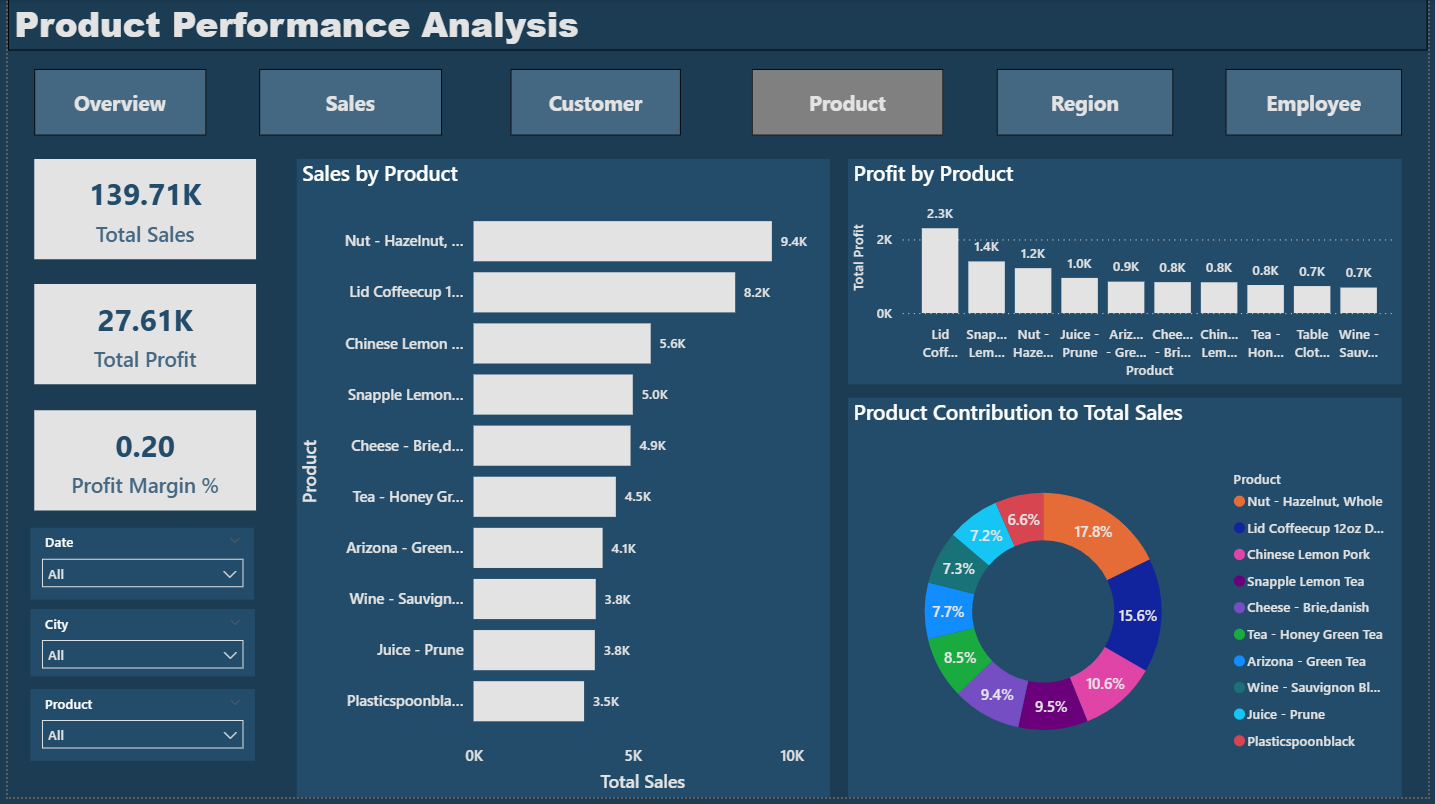

This screenshot's page, from the dashboard's own definition file:
{"tool":"powerbi","page":{"name":"Product Dashboard","canvas":[1280,720],"ordinal":4},"visuals":[{"type":"actionButton","box":[226.4,63.1,164.7,60.4],"z":0},{"type":"actionButton","box":[452.8,63.1,153.7,60.4],"z":1000},{"type":"actionButton","box":[671,63.1,172.9,60.4],"z":2000},{"type":"actionButton","box":[891.9,63.1,159.2,60.4],"z":3000},{"type":"textbox","title":"Product Performance Analysis","box":[0,0,1280.3,46.7],"z":4000},{"type":"card","fields":{"Values":["sales.Total Sales"]},"box":[23.3,144.1,200.3,90],"z":5000},{"type":"card","fields":{"Values":["sales.Profit Margin %"]},"box":[23.3,370.5,200.3,90.6],"z":6000},{"type":"card","fields":{"Values":["sales.Total Profit"]},"box":[23.3,256.6,200.3,90.6],"z":7000},{"type":"clusteredBarChart","title":"Sales by Product","fields":{"Y":["sales.Total Sales"],"Category":["products.product"]},"box":[260.5,144.3,480.6,576],"z":8000},{"type":"clusteredColumnChart","title":"Profit by Product","fields":{"Y":["sales.Total Profit"],"Category":["products.product"]},"box":[757.5,144.1,499.5,203.1],"z":9000},{"type":"actionButton","title":"Over","box":[23.3,63.1,155.1,60.4],"z":10000},{"type":"donutChart","title":"Product Contribution to Total Sales","fields":{"Category":["products.product"],"Y":["sales.Total Sales"]},"box":[757.5,359.5,499.5,360.9],"z":11000},{"type":"actionButton","box":[1097.8,63.1,159.2,60.4],"z":12000},{"type":"slicer","fields":{"Values":["sales.date"]},"box":[20.6,477.3,201.7,64.5],"z":13000},{"type":"slicer","fields":{"Values":["location.city"]},"box":[20.2,549.8,202.1,60.6],"z":14000},{"type":"slicer","fields":{"Values":["products.product"]},"box":[20.2,622.6,202.1,64.7],"z":15000}]}

Visuals, with their boxes in screenshot pixels (x1, y1, x2, y2), scaled from the page's 1280x720 canvas onto the 1435x804 screenshot:
actionButton: (254, 70, 438, 138)
actionButton: (508, 70, 680, 138)
actionButton: (752, 70, 946, 138)
actionButton: (1000, 70, 1178, 138)
"Product Performance Analysis" textbox: (0, 0, 1434, 52)
card - sales.Total Sales: (26, 161, 251, 261)
card - sales.Profit Margin %: (26, 414, 251, 515)
card - sales.Total Profit: (26, 287, 251, 388)
"Sales by Product" clusteredBarChart: (292, 161, 831, 803)
"Profit by Product" clusteredColumnChart: (849, 161, 1409, 388)
"Over" actionButton: (26, 70, 200, 138)
"Product Contribution to Total Sales" donutChart: (849, 401, 1409, 803)
actionButton: (1231, 70, 1409, 138)
slicer - sales.date: (23, 533, 249, 605)
slicer - location.city: (23, 614, 249, 682)
slicer - products.product: (23, 695, 249, 767)
